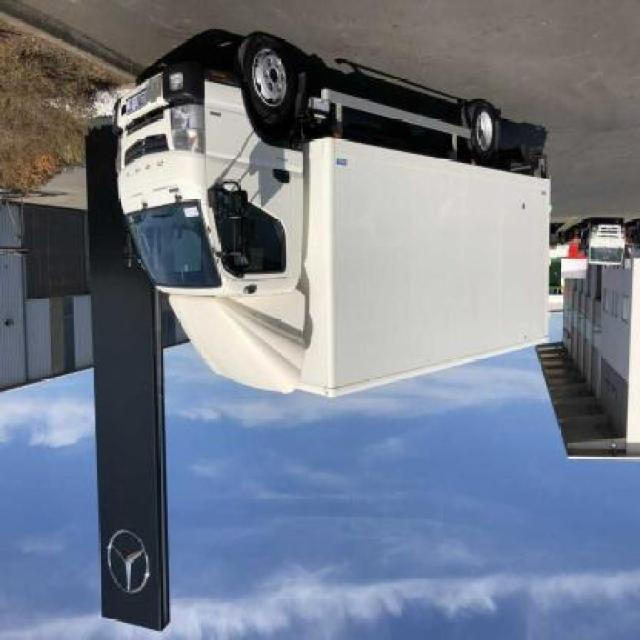truck: (116, 36, 551, 399)
